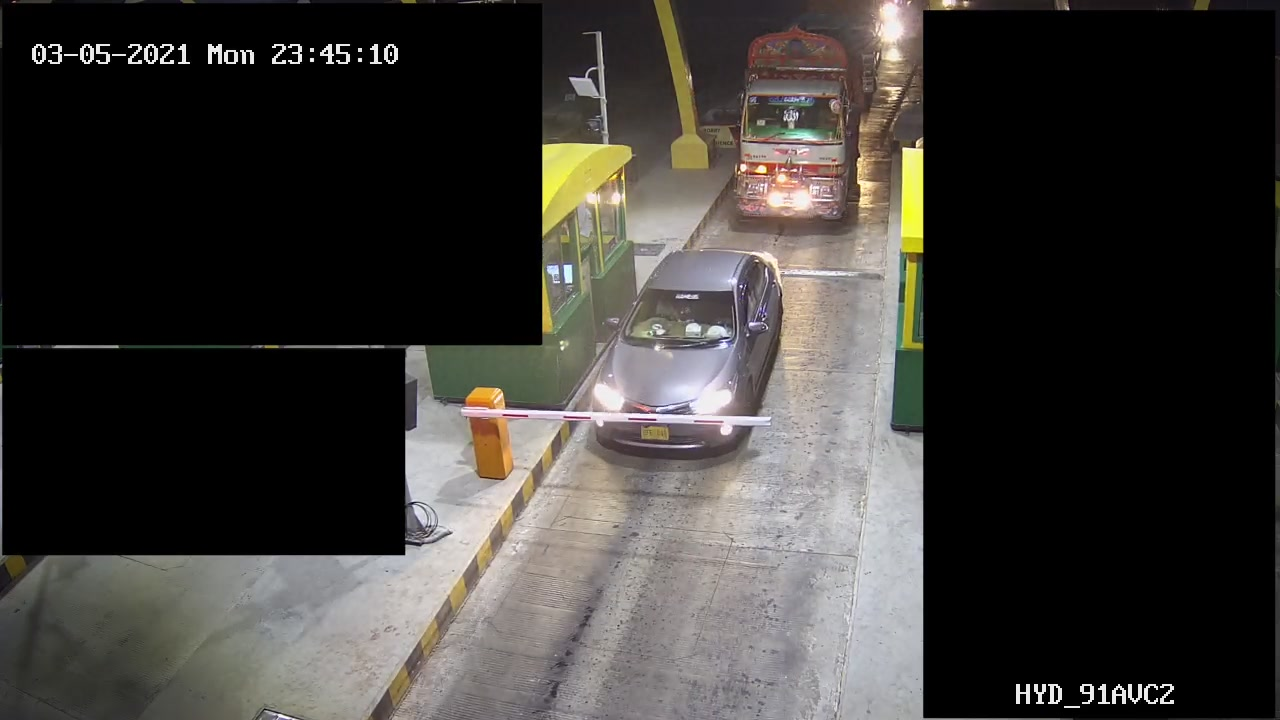F1: (587, 235, 786, 467)
